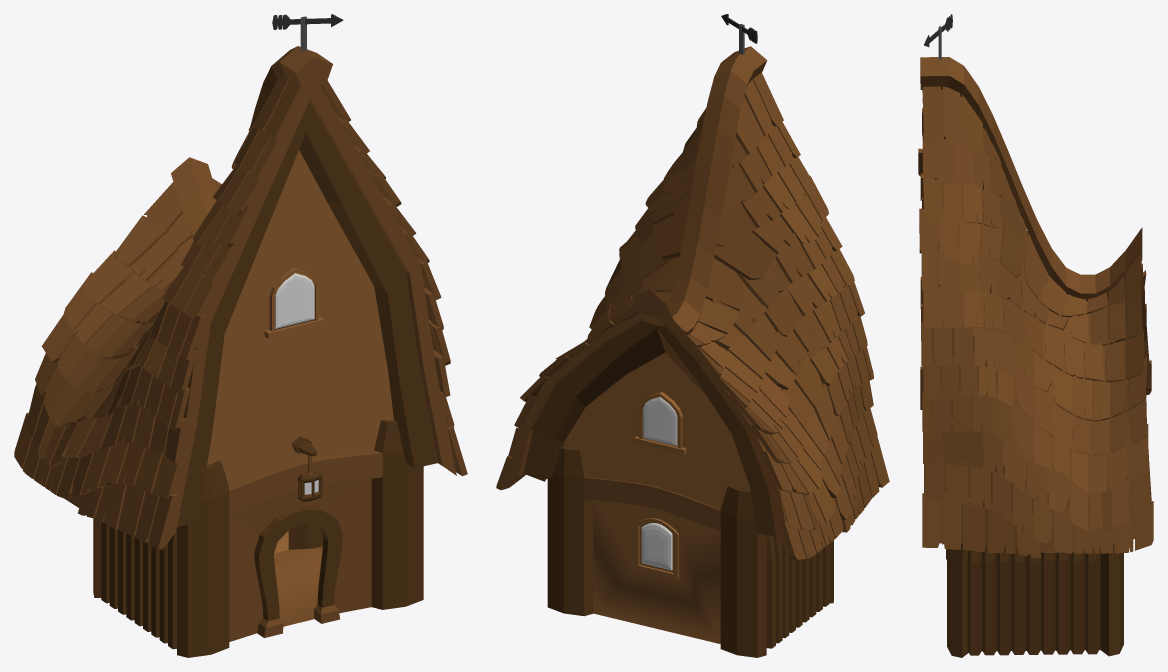
File: B_Blacksmith.fbx
3 views of the same model, side by side, from view 1: azimuth 30°, elevation 25°; view 2: azimuth 150°, elevation 25°; view 3: azimuth 270°, elevation 25° (orthographic). The views are drawn at different scales.
Visible parts, largest first — view 1: B_Blacksmith; view 2: B_Blacksmith; view 3: B_Blacksmith.
Part boxes in pixels (x1=…): B_Blacksmith: x1=14, y1=14, x2=467, y2=657; B_Blacksmith: x1=496, y1=14, x2=889, y2=657; B_Blacksmith: x1=918, y1=14, x2=1153, y2=657.
Bounding box in the file's own units: 700 × 1200 × 446.
